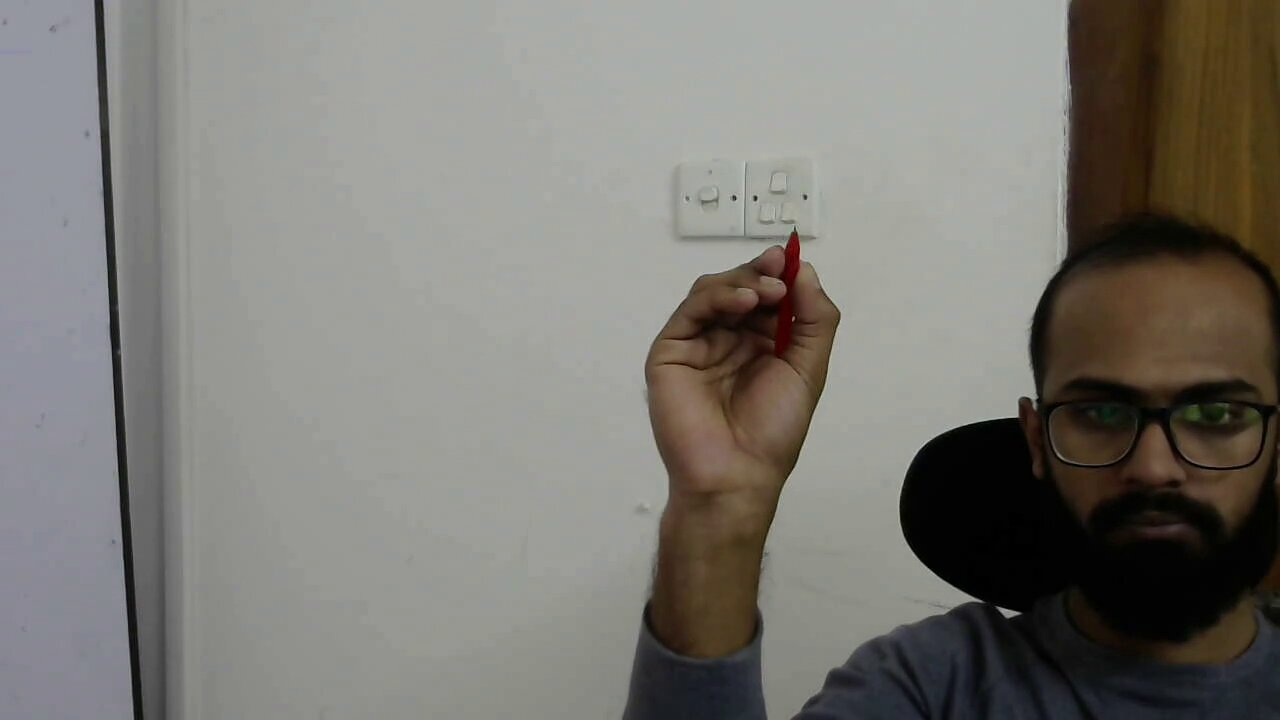pointer: (645, 244, 844, 381)
